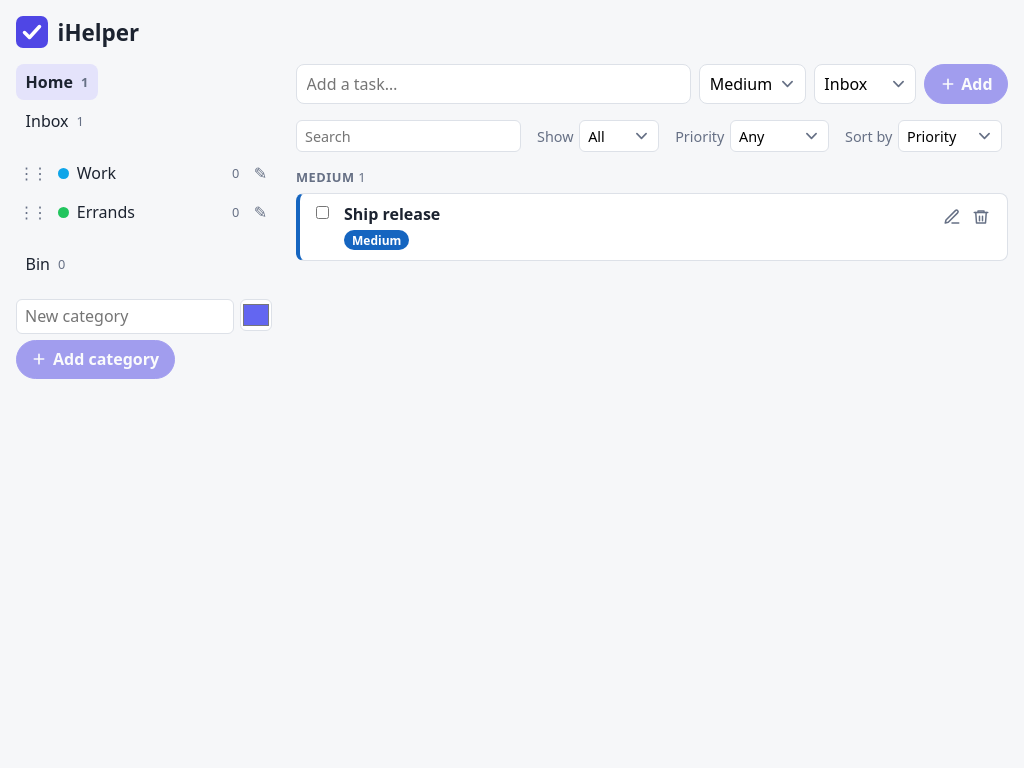
Test case: App › offers the latest server copy when saving hits a 409
Click the button named "Edit Ship release" at {"x": 952, "y": 217}, box left=938, top=203, right=966, bottom=231
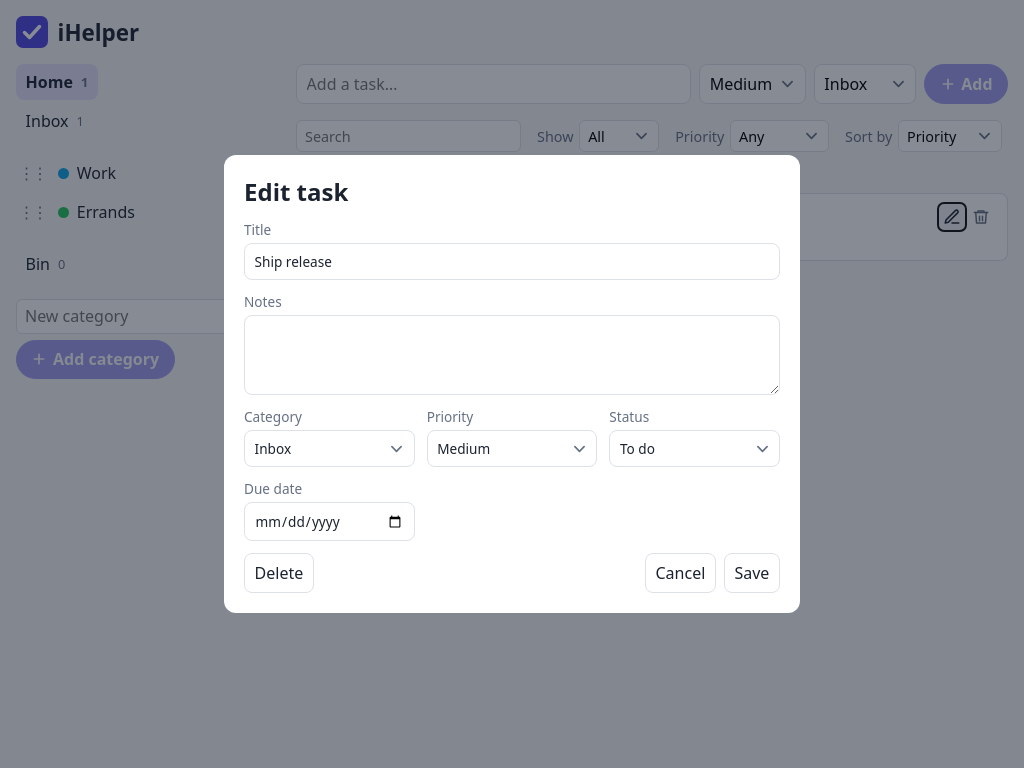
Click the button "Save" at {"x": 752, "y": 573}, box left=724, top=553, right=780, bottom=593
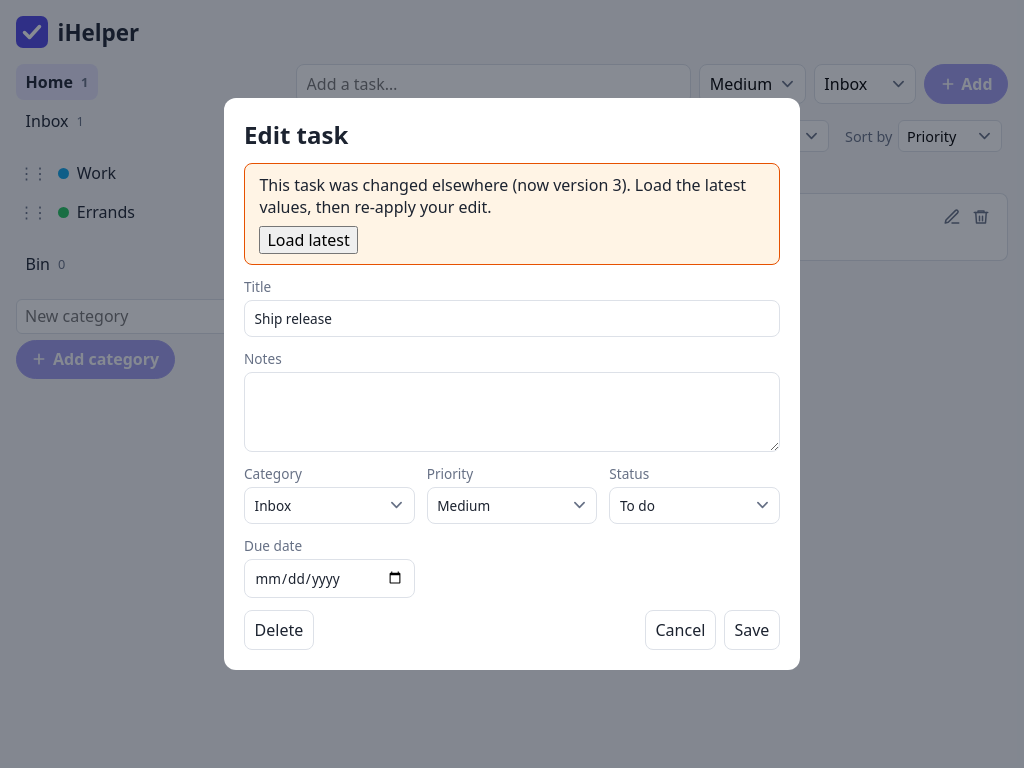
Check: the text "changed elsewhere (now version 3)" is shown, box left=259, top=174, right=765, bottom=218
Click the button "Load latest" at {"x": 309, "y": 240}, box left=259, top=226, right=358, bottom=254
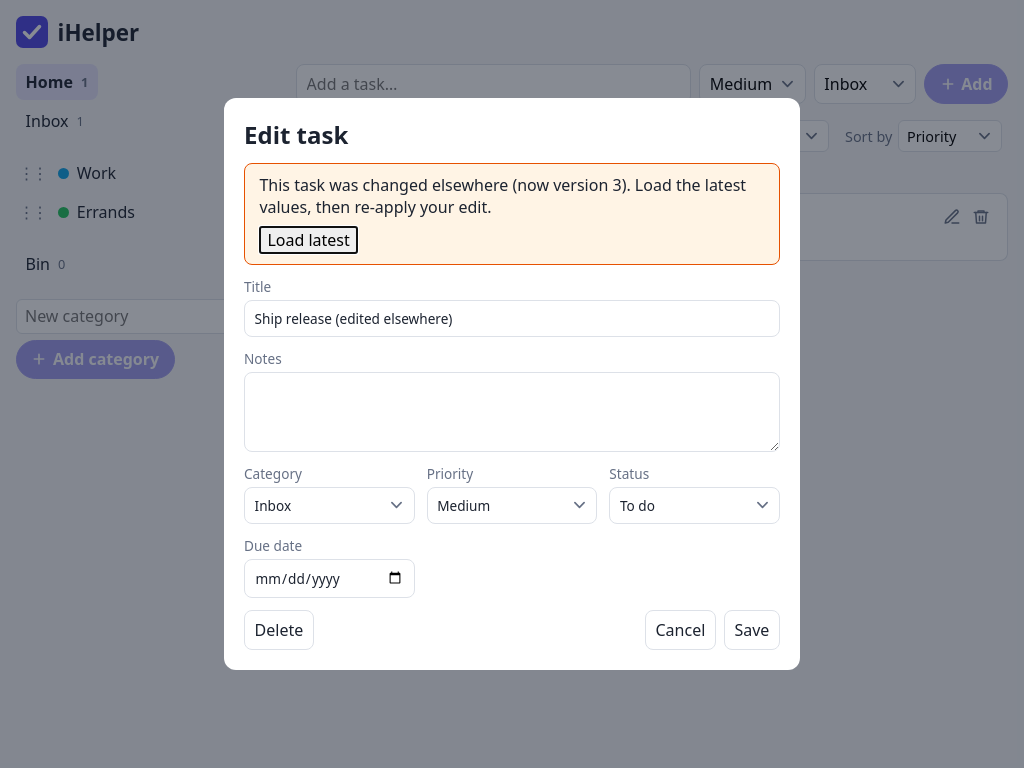
Check: the field labelled "Title" holds "Ship release (edited elsewhere)", box left=244, top=300, right=780, bottom=337
Click the button "Save" at {"x": 752, "y": 630}, box left=724, top=610, right=780, bottom=650
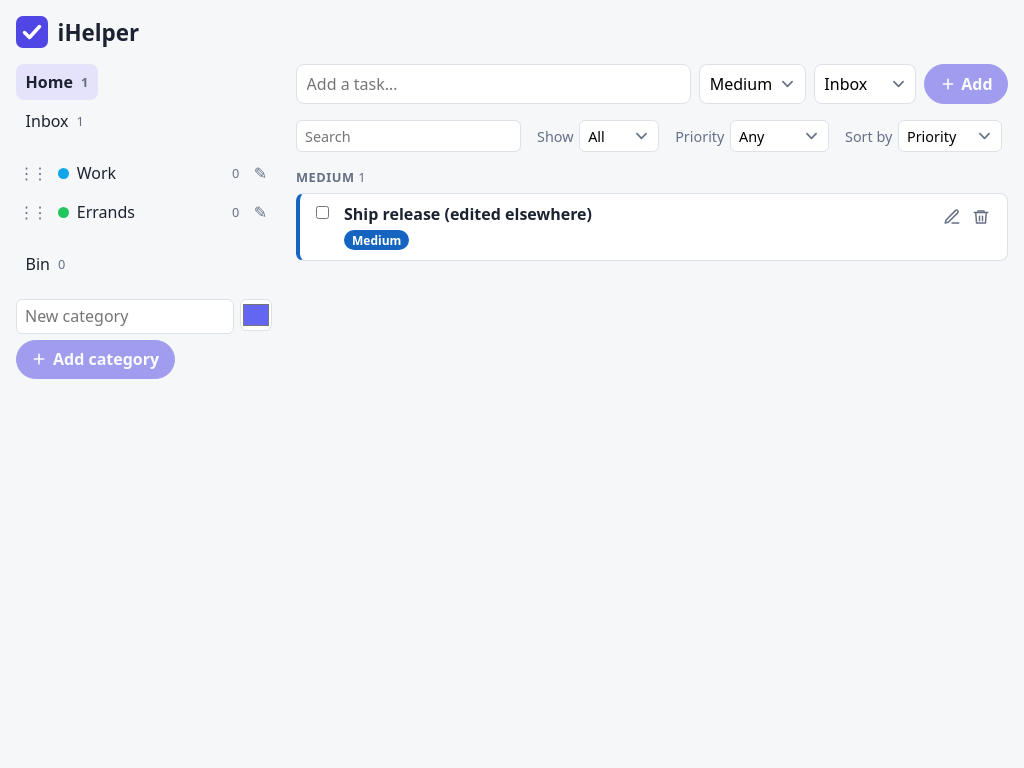
Check: the dialog is gone
